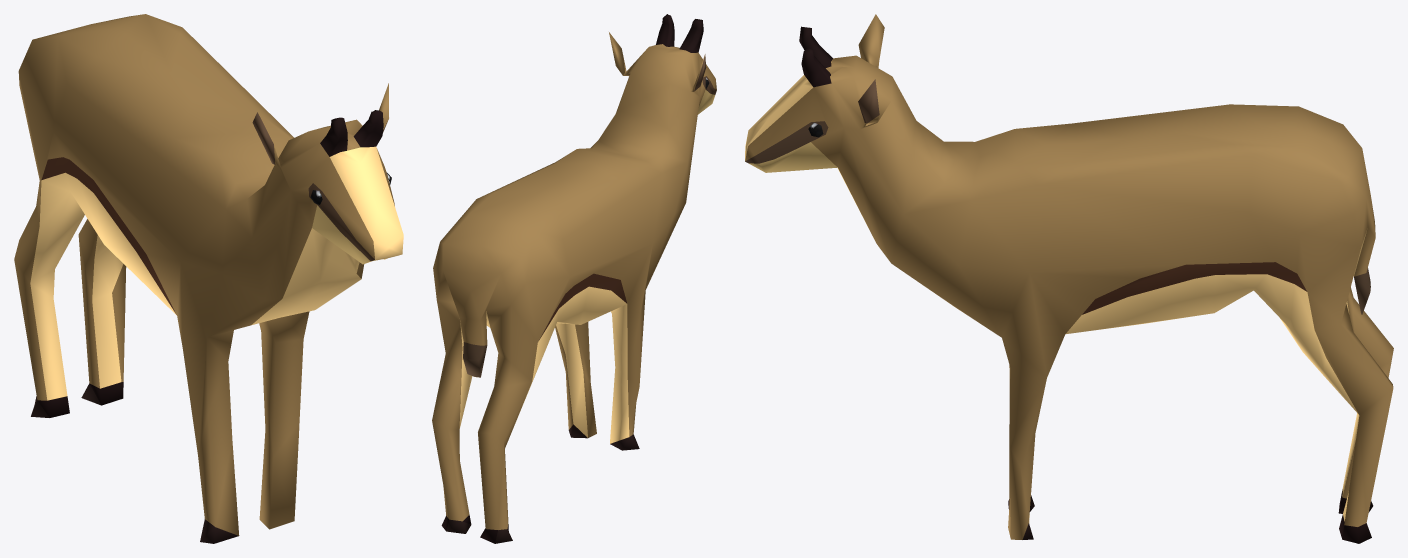
File: c27bf805-b157-48b2-bc78-c63deb8c2c28.glb
The picture shows the model from 3 angles, left to right: view 1: azimuth 30°, elevation 25°; view 2: azimuth 150°, elevation 25°; view 3: azimuth 270°, elevation 25°; orthographic projection. The views are drawn at different scales.
Visible parts, largest first — view 1: Gazelle; view 2: Gazelle; view 3: Gazelle.
Boxes of the visible parts, x1,y1,x2,y2 form: Gazelle: (14, 14, 403, 543); Gazelle: (432, 14, 716, 543); Gazelle: (745, 14, 1393, 543).
Size of what is drawn, in the model's own units: 0.5298 by 1.66 by 2.01.
1 material, 1 textured.
